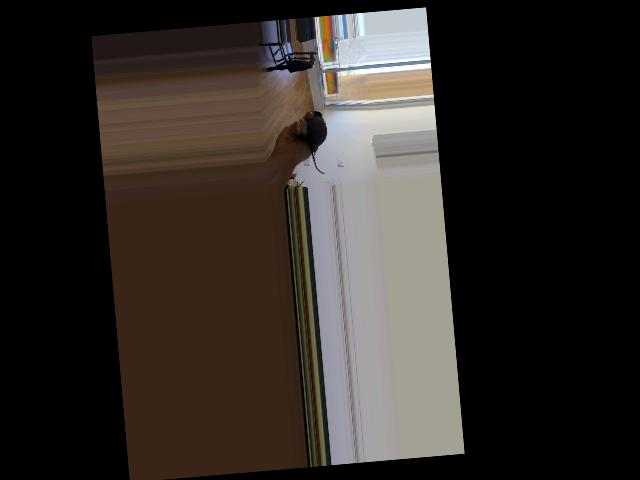beet: (303, 109, 330, 174)
